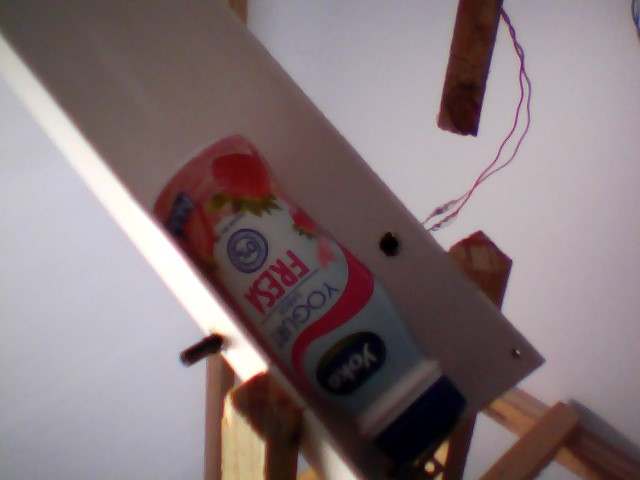plastico: (140, 129, 474, 474)
